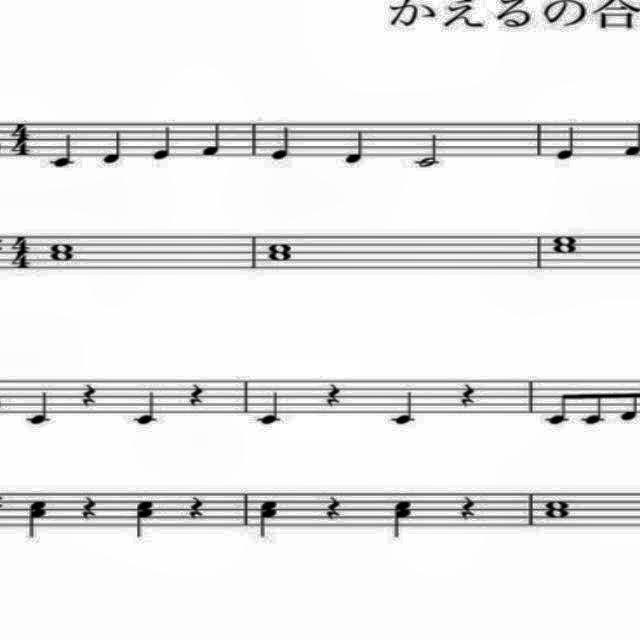Eighth-note: (576, 381, 612, 433), (539, 384, 575, 432), (619, 384, 640, 427), (639, 384, 640, 427)
Half-note: (412, 131, 448, 173)
Quarter-note: (251, 390, 289, 430), (130, 384, 162, 430), (552, 124, 584, 168), (22, 388, 56, 428), (388, 386, 417, 430), (342, 126, 370, 170), (268, 119, 296, 161), (201, 116, 227, 160), (49, 134, 80, 170), (99, 128, 125, 166), (150, 125, 174, 163)
Quarter-rest: (320, 490, 344, 526), (78, 490, 102, 522), (456, 494, 480, 526), (184, 380, 208, 408), (458, 376, 478, 409), (79, 380, 99, 412), (188, 493, 206, 522), (325, 383, 343, 409)
